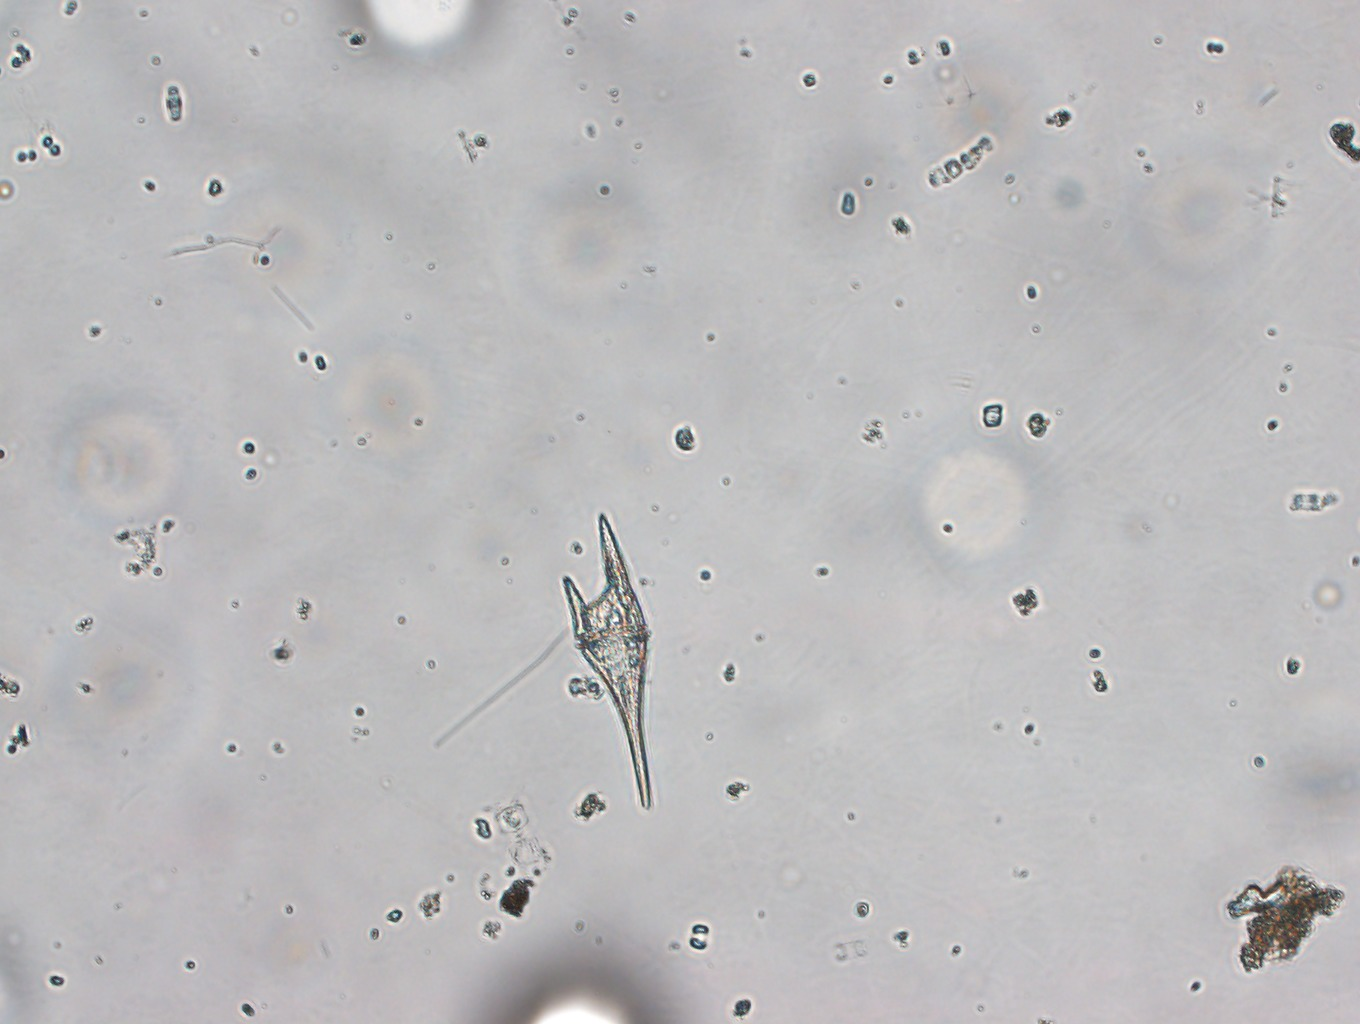ceratium furca: (547, 508, 671, 822)
